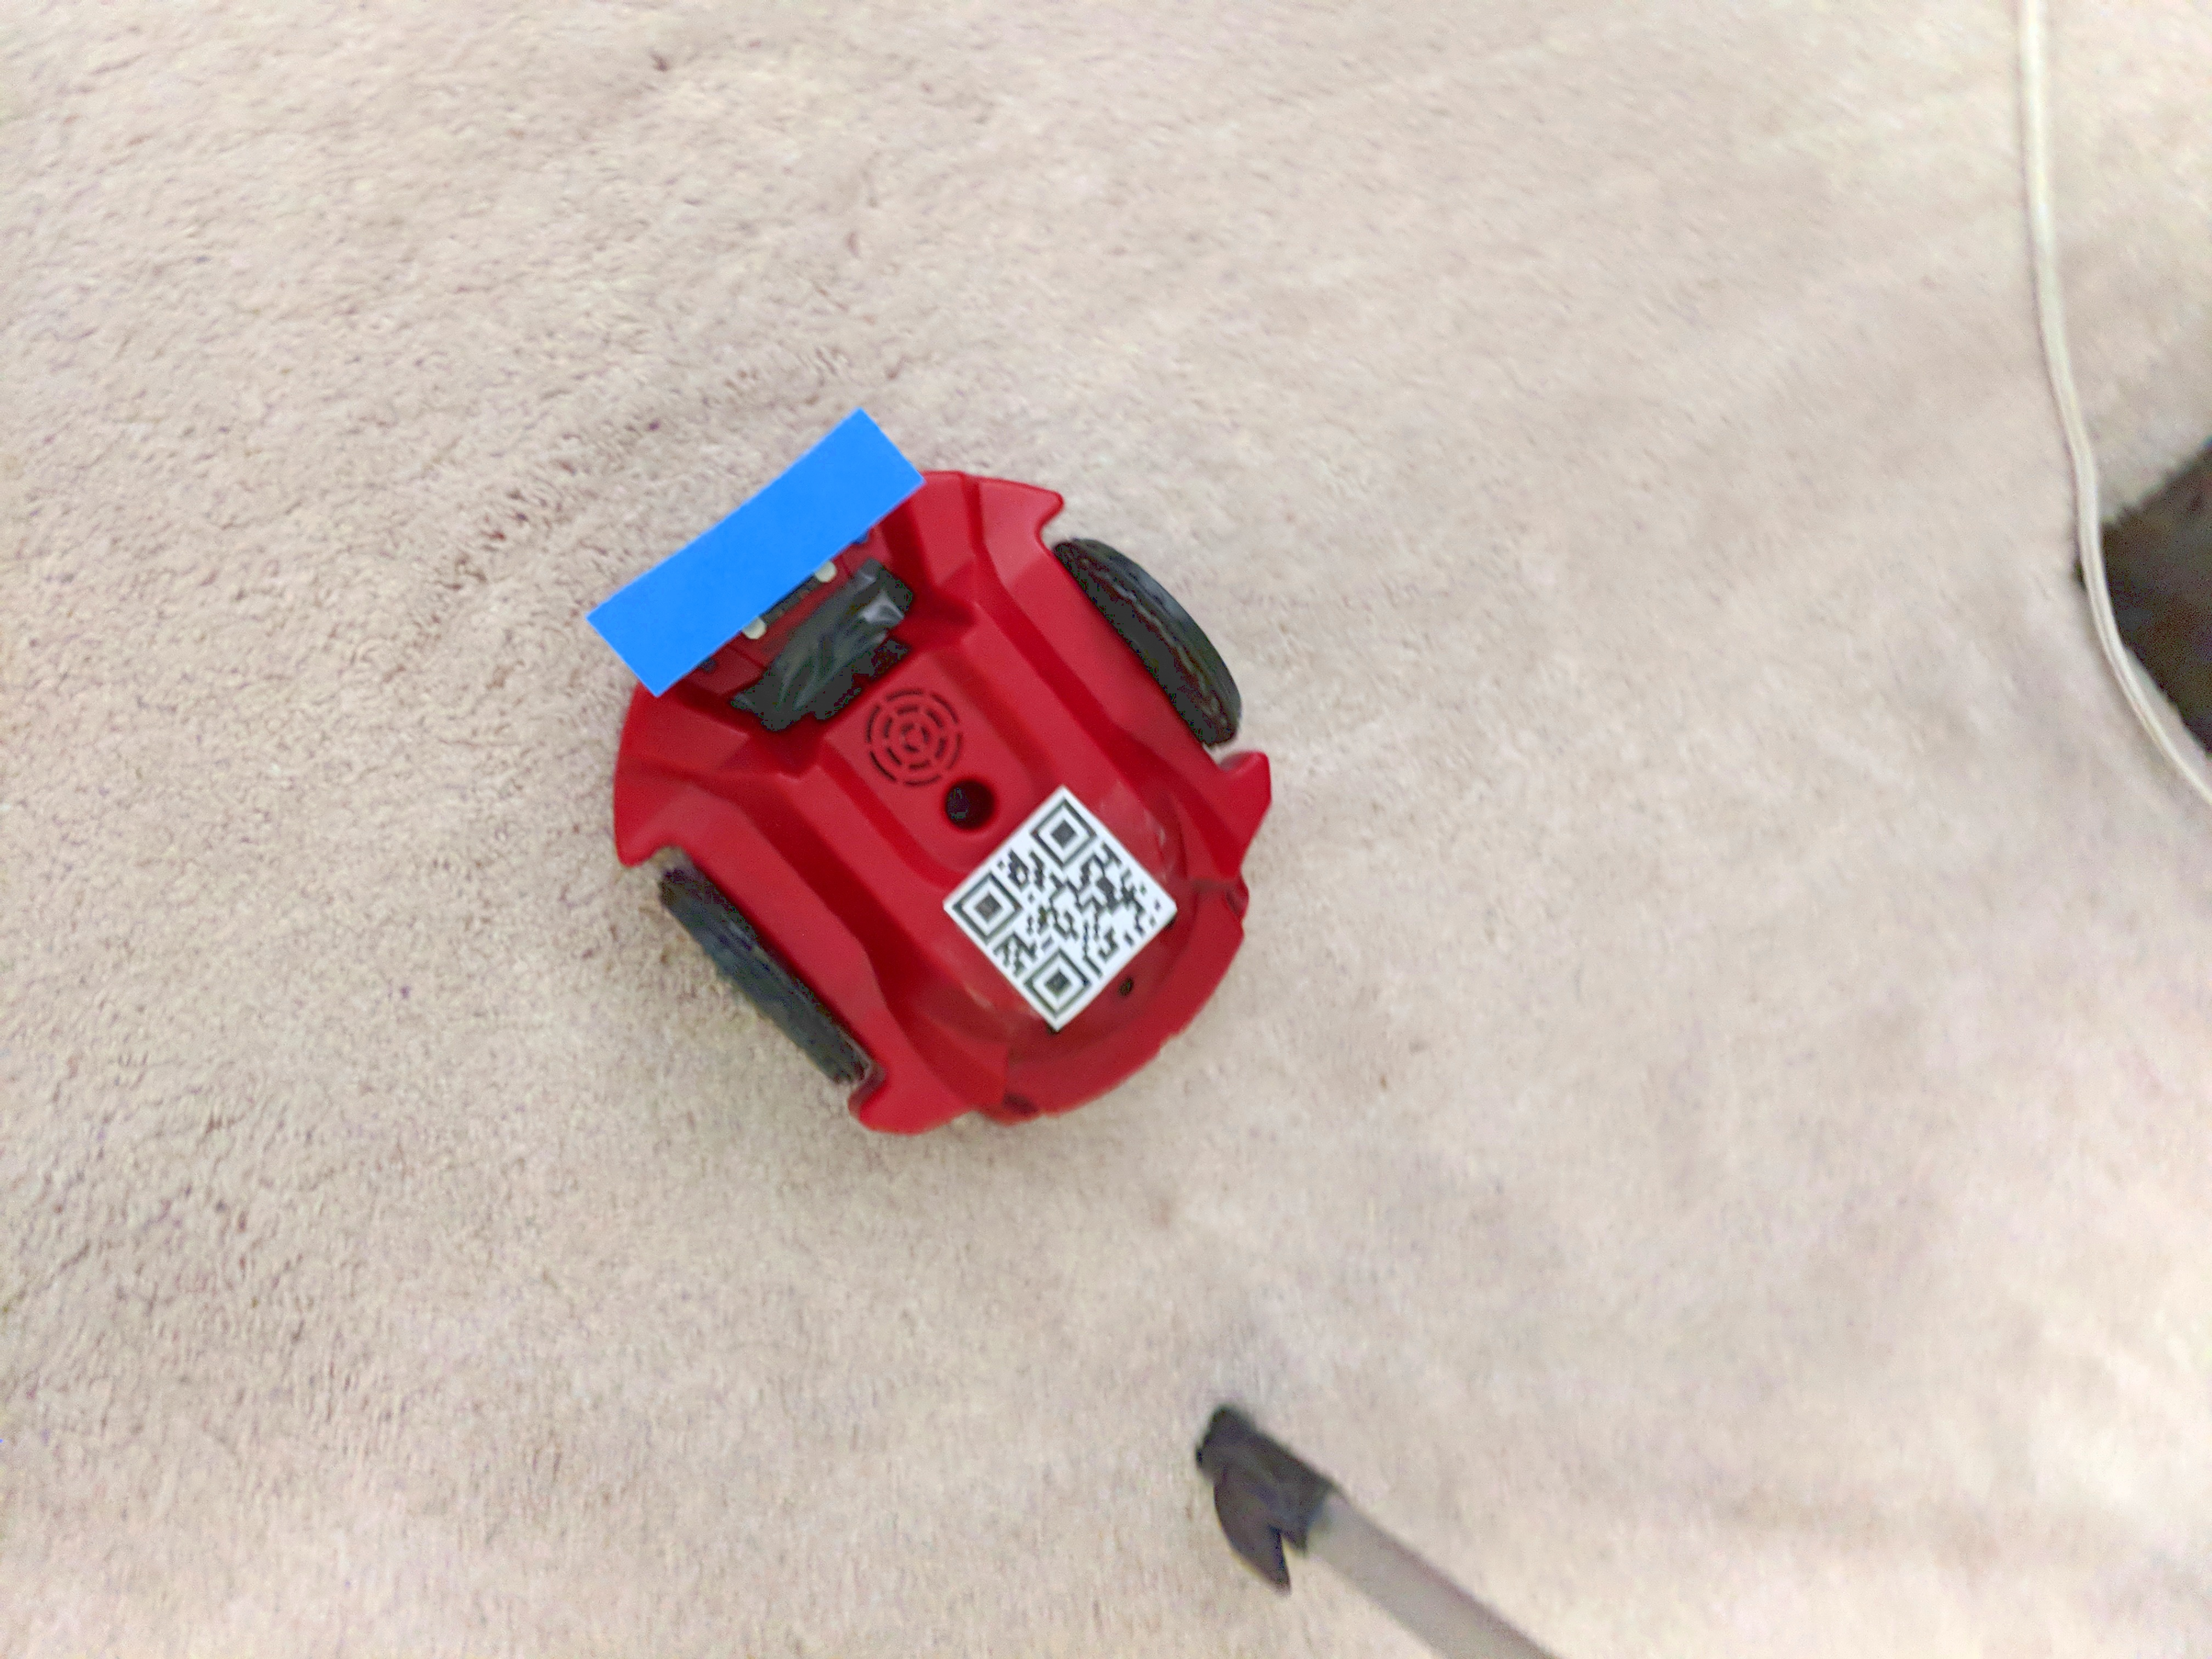board: (596, 375, 925, 723)
chassis: (577, 410, 1287, 1159)
